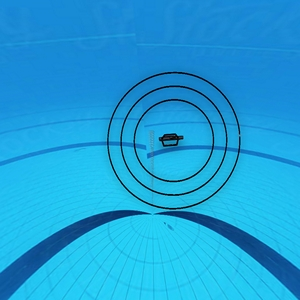circle: (108, 66, 242, 219)
submarine: (156, 133, 186, 150)
